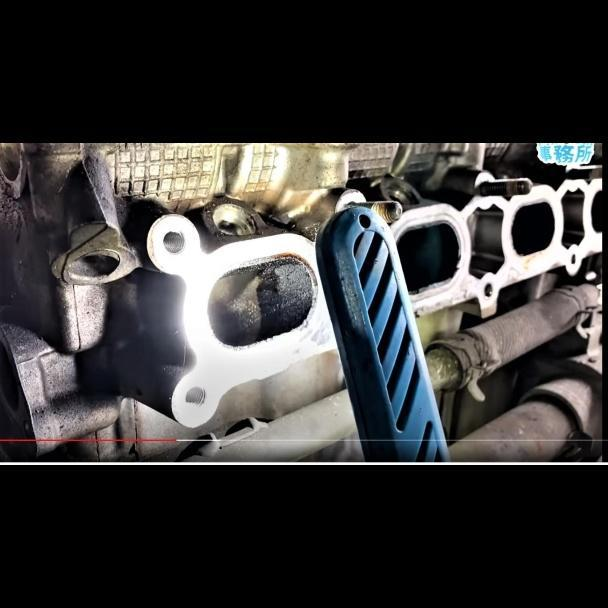hole: (161, 228, 185, 256), (181, 386, 207, 411), (481, 281, 494, 300)
